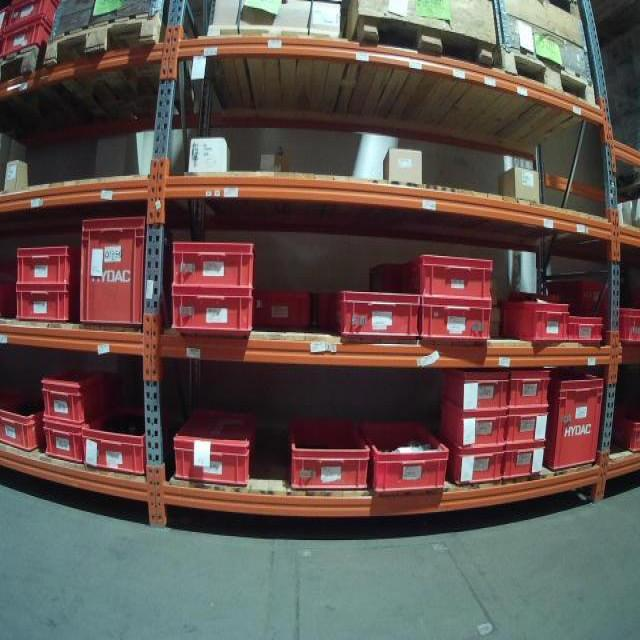pallet: (354, 10, 496, 70), (40, 11, 169, 71), (501, 47, 594, 108), (208, 21, 340, 42), (0, 41, 40, 84)
small_load_carrier: (73, 214, 148, 329), (280, 412, 371, 492), (169, 402, 253, 487), (357, 415, 448, 490), (543, 369, 606, 473), (309, 290, 421, 346), (81, 407, 168, 476), (394, 252, 493, 299), (172, 286, 258, 340), (168, 239, 259, 289), (38, 367, 111, 423), (420, 298, 495, 347), (502, 295, 574, 344), (1, 388, 49, 453), (437, 365, 508, 408), (449, 440, 505, 488), (10, 243, 72, 286), (256, 285, 310, 332), (436, 411, 510, 444), (15, 286, 76, 324), (38, 417, 83, 467), (502, 440, 547, 487), (502, 409, 549, 449), (563, 313, 609, 349), (508, 371, 552, 408), (608, 303, 639, 352), (616, 407, 639, 459)
